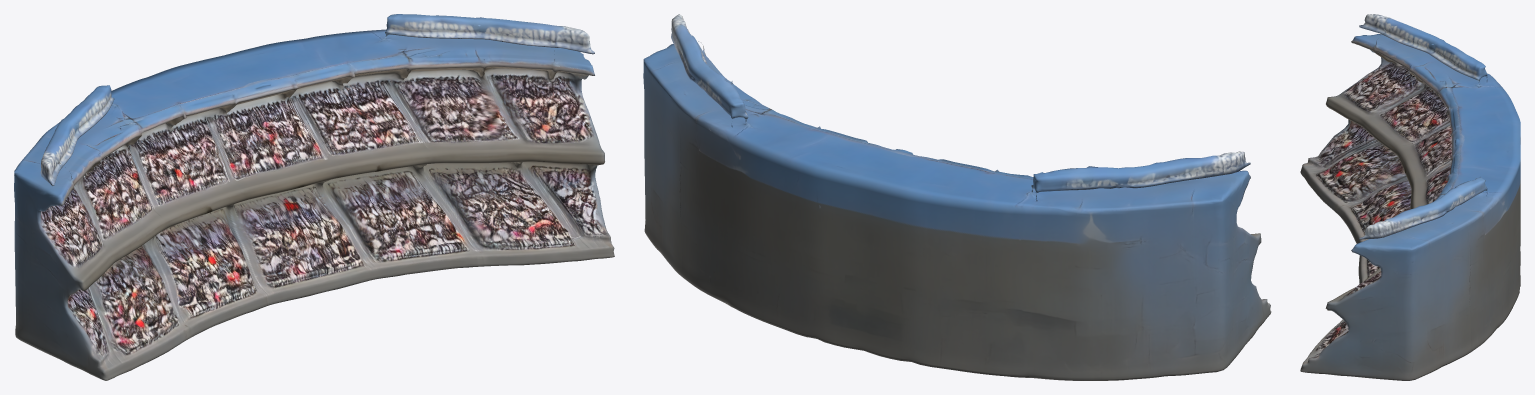
Rendered from stadium-stand.glb.
3 renders of one model, left to right at view 1: azimuth 30°, elevation 25°; view 2: azimuth 150°, elevation 25°; view 3: azimuth 270°, elevation 25°, orthographic. The views are drawn at different scales.
Visible parts, largest first — view 1: model; view 2: model; view 3: model.
Part boxes in pixels (x1,y1,x2,y2): model: [14, 14, 614, 380]; model: [643, 14, 1271, 380]; model: [1300, 14, 1520, 380].
Bounding box in the file's own units: 1.89 × 0.6249 × 0.8105.
1 material, 1 textured.
